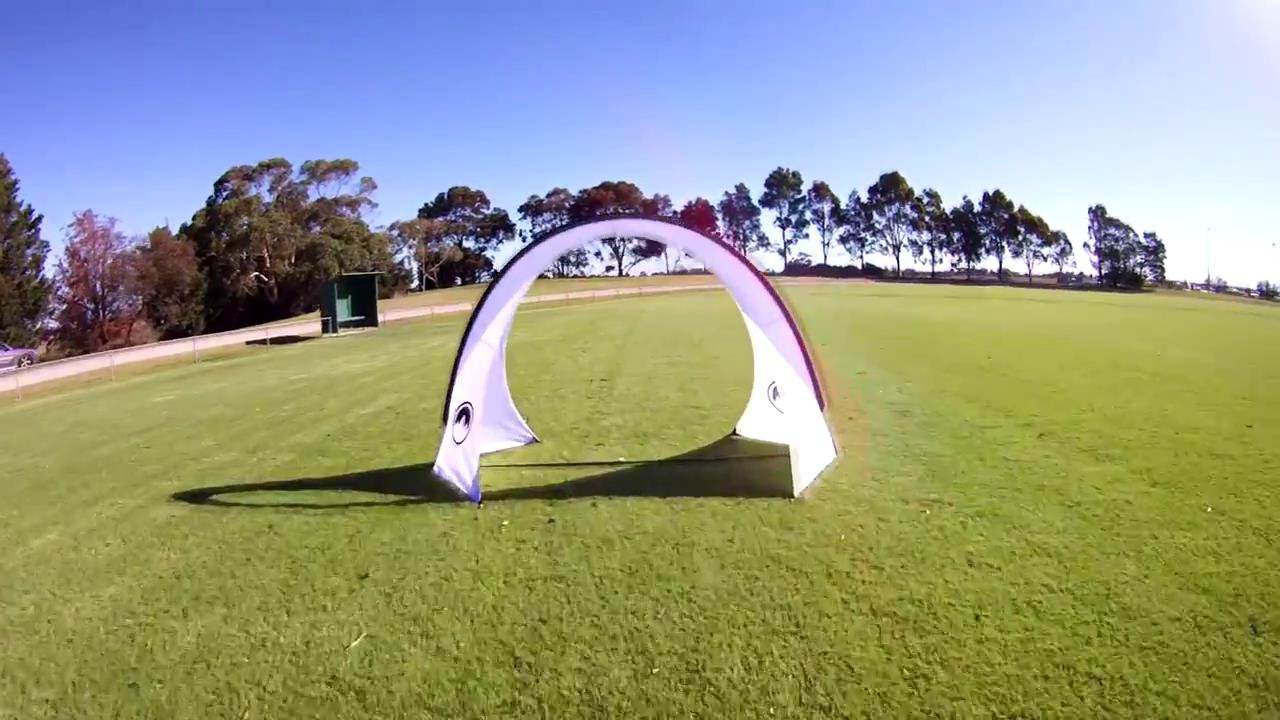gate: (424, 211, 841, 503)
